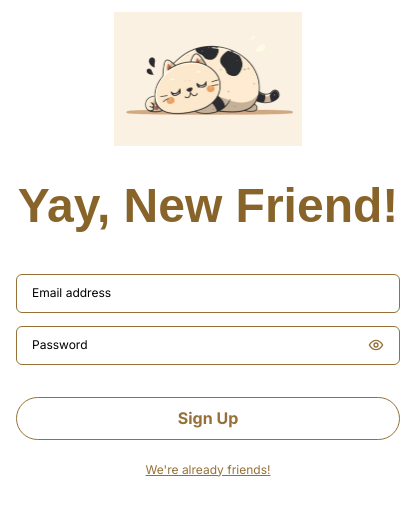
it: RegisterPage › shows fallback message when API error body has no detail
Step 1. Type "user@example.com" into the field labelled "Email address" → (208, 293), box [32,284,384,302]
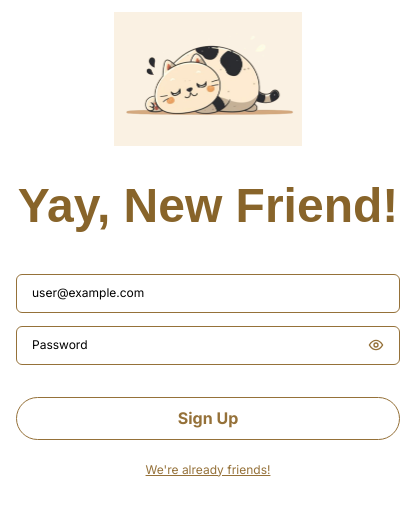
Step 2. Type "validpassword123" into the password field labelled "Password" → (196, 345), box [32,336,360,354]
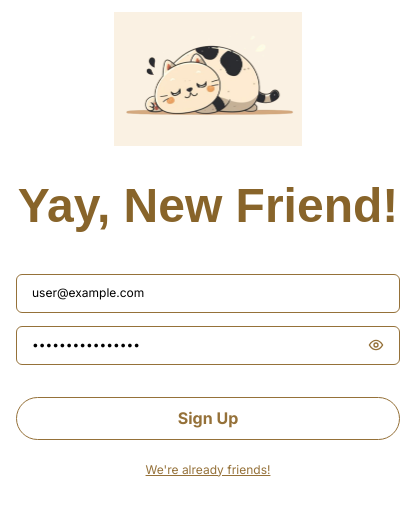
Step 3. Click the button "Sign Up" → (208, 418), box [16,397,400,440]
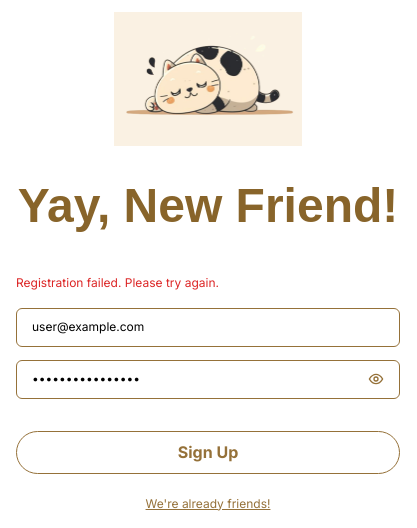
Expected: the text "Registration failed. Please try again." is shown, [16,275,219,290]
